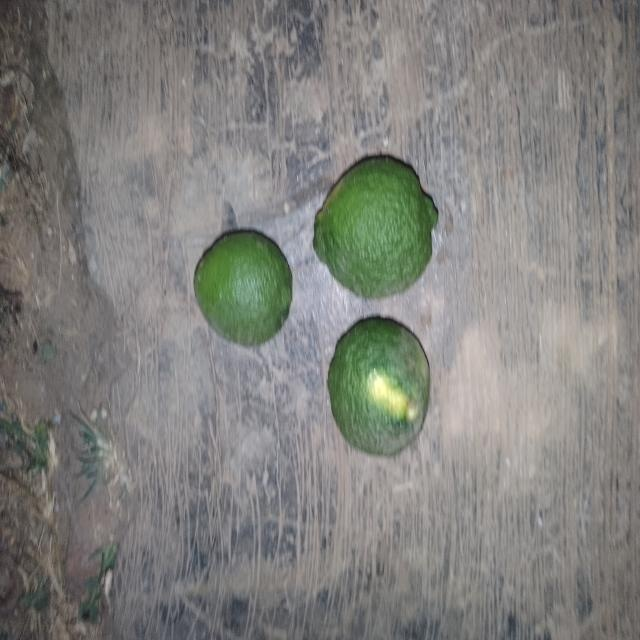agrume: (318, 310, 454, 480), (309, 143, 448, 305), (189, 218, 299, 365)
